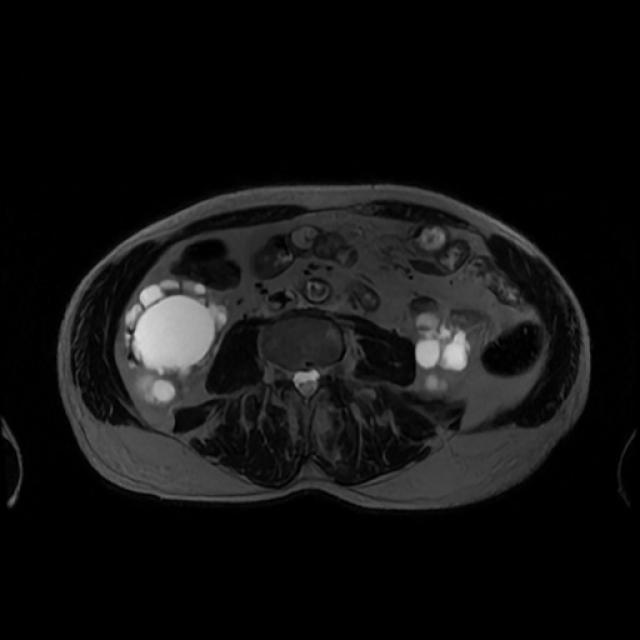sag: (126, 279, 231, 409)
sol: (412, 311, 469, 398)
